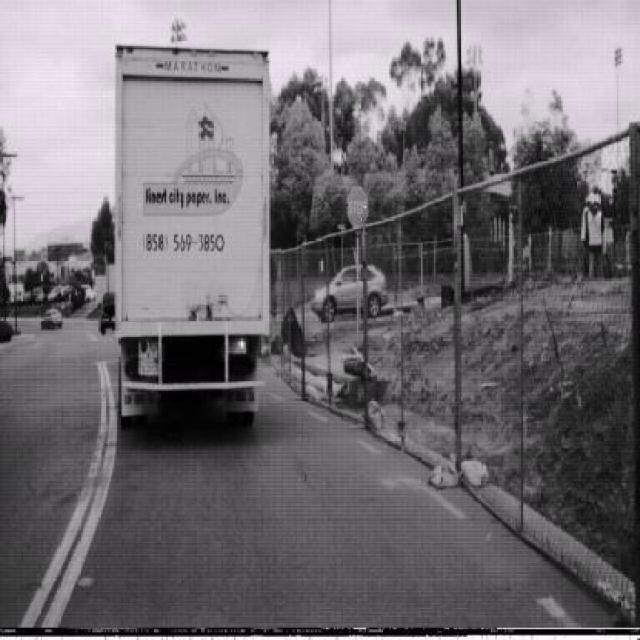stop: (346, 186, 368, 229)
